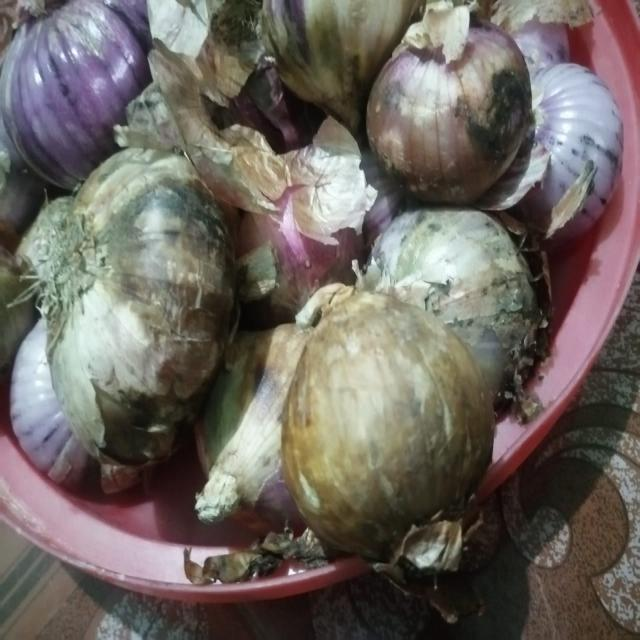rotten: (225, 9, 384, 137), (471, 232, 548, 409), (144, 162, 210, 362), (454, 78, 520, 156)
